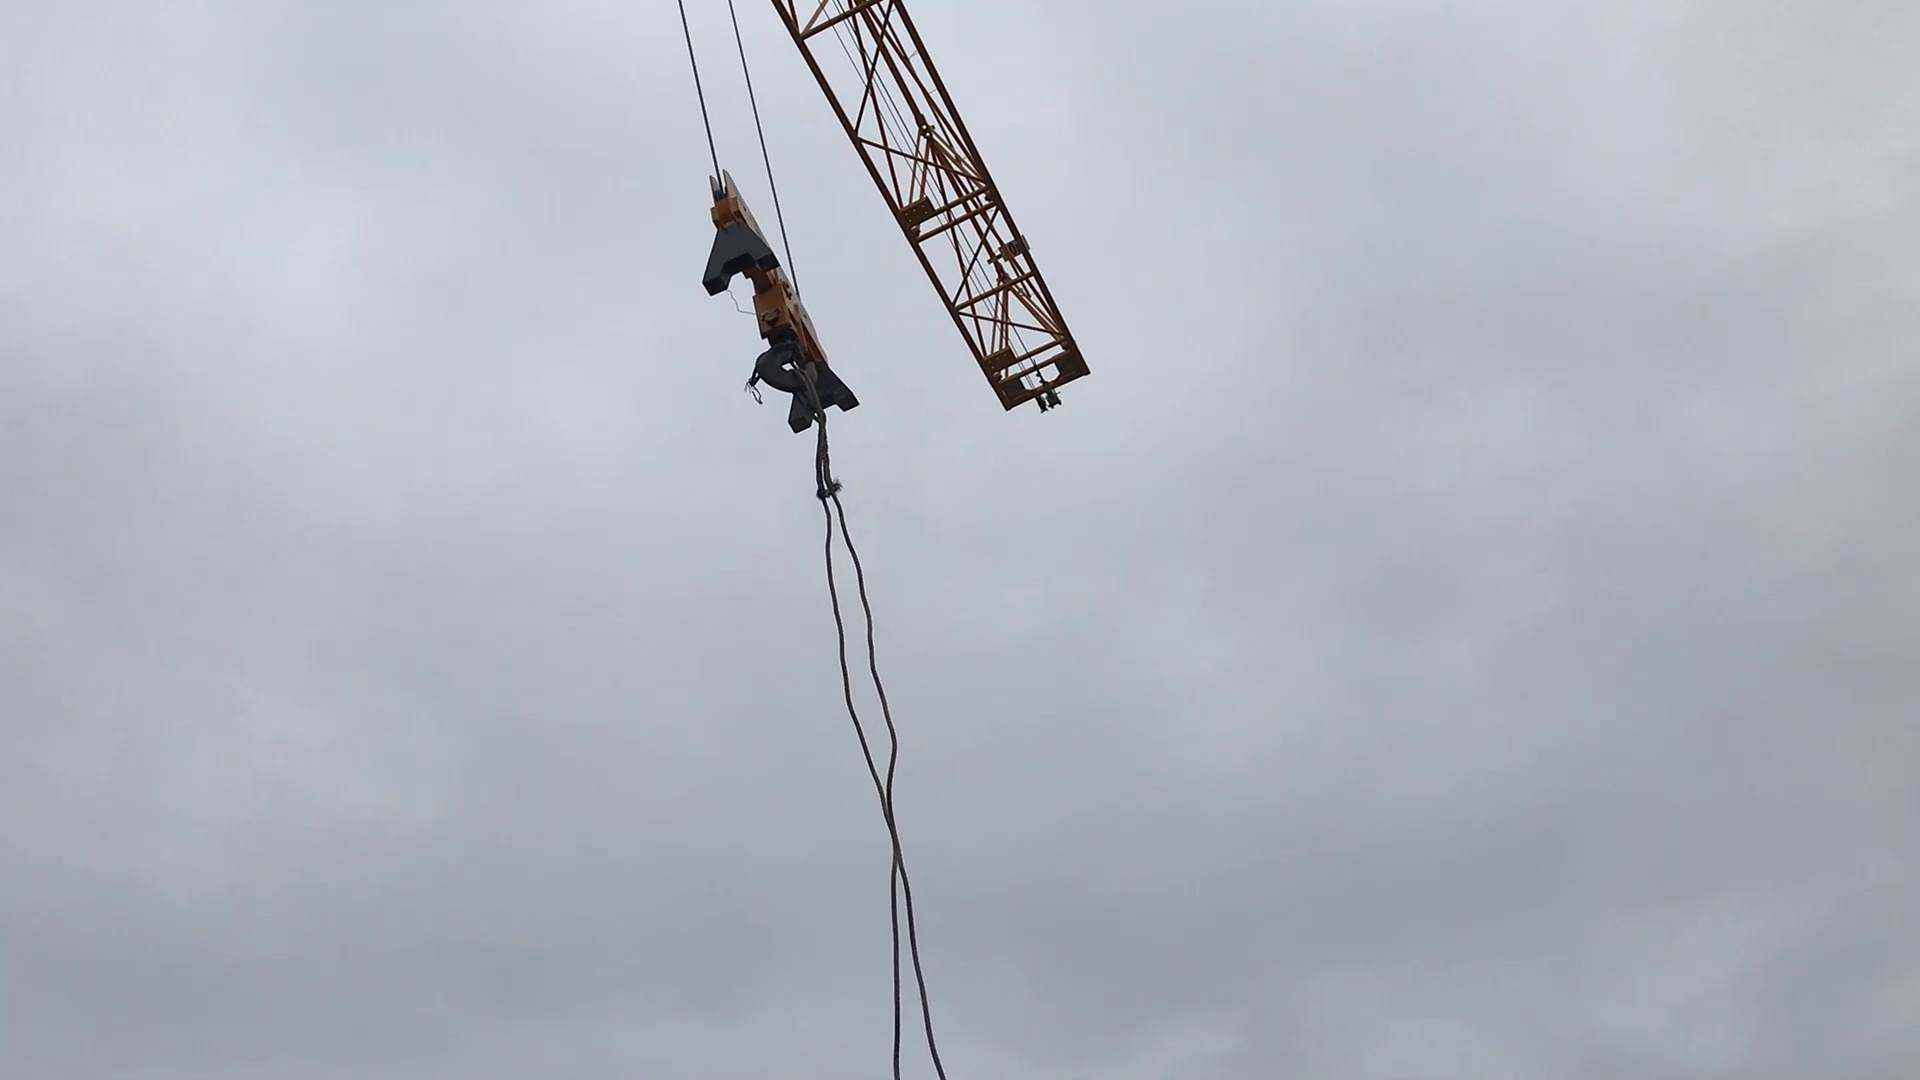hook: (674, 150, 893, 481)
